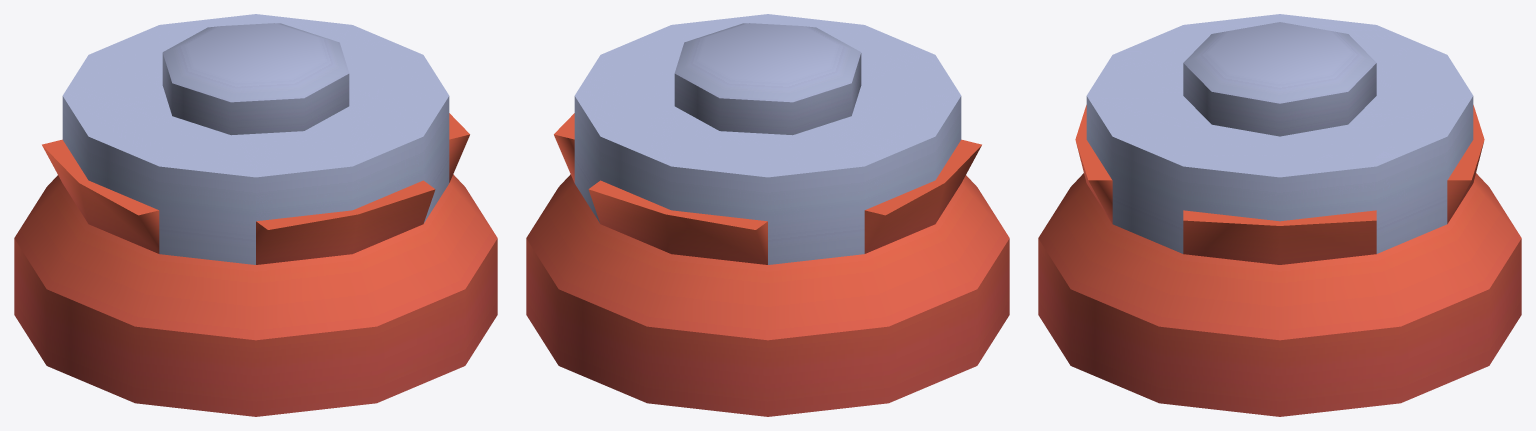
Rendered from tower-round-bottom-c.glb.
3 views of the same model, side by side, from view 1: azimuth 30°, elevation 25°; view 2: azimuth 150°, elevation 25°; view 3: azimuth 270°, elevation 25° (orthographic).
Visible parts, largest first — view 1: tower-round-bottom-c; view 2: tower-round-bottom-c; view 3: tower-round-bottom-c.
Boxes of the visible parts, box(x1,y1,x2,y2) form: tower-round-bottom-c: box(14, 14, 497, 416); tower-round-bottom-c: box(526, 14, 1009, 416); tower-round-bottom-c: box(1038, 14, 1521, 416).
Size of the model in its own units: 1 by 0.6 by 1.
1 material, 1 textured.
